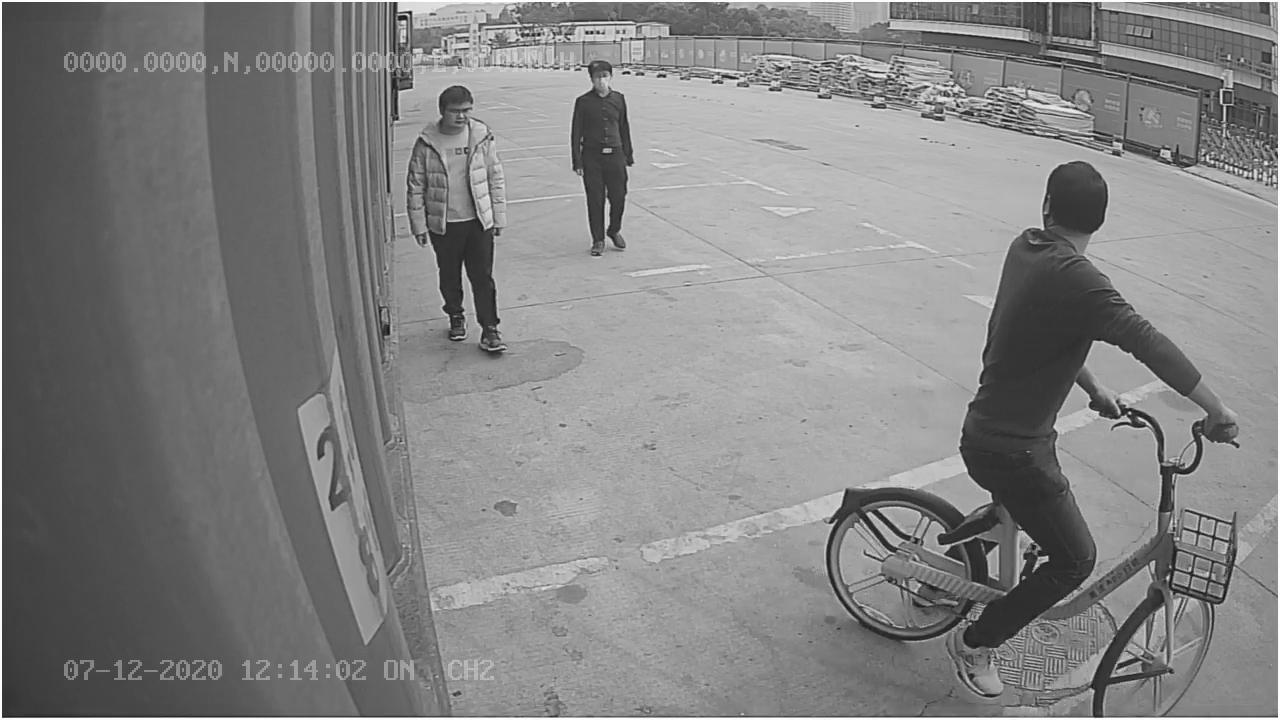person: (405, 84, 513, 355), (553, 57, 652, 262)
